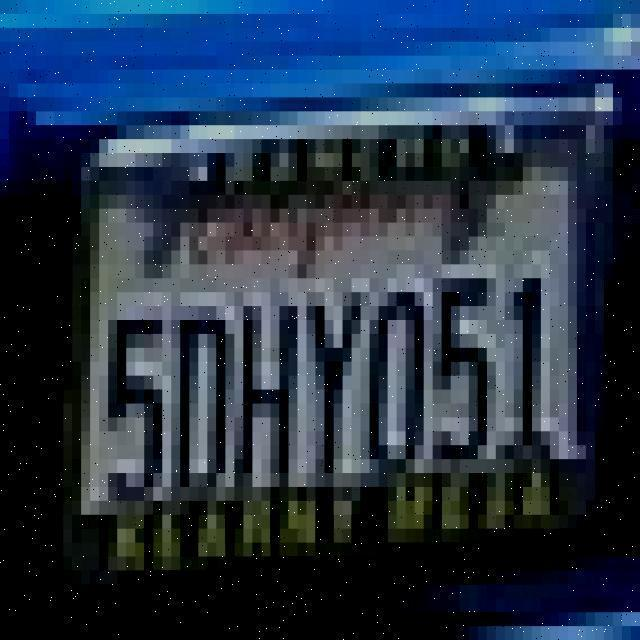LicensePlate: (49, 99, 620, 572)
